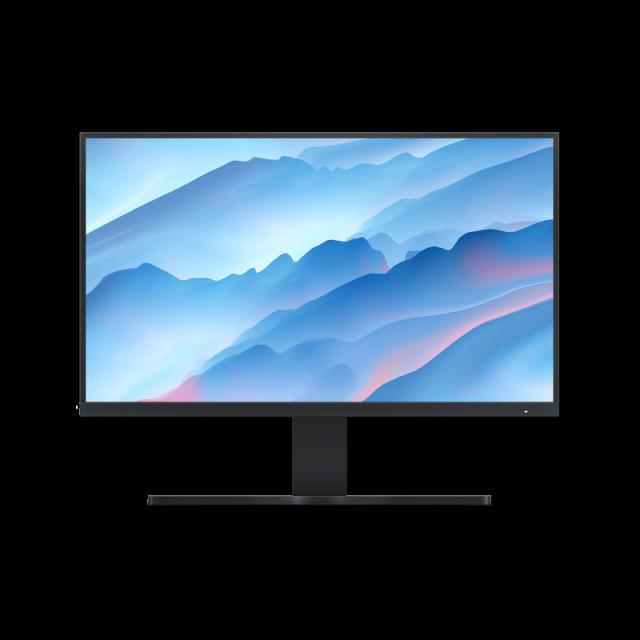monitor: (57, 117, 615, 546)
